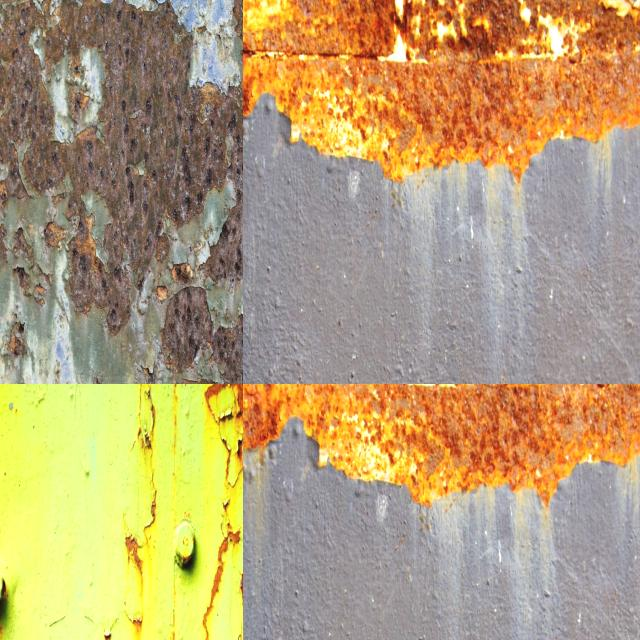Pitting Corrosion: (0, 0, 243, 334), (243, 0, 640, 180), (243, 384, 640, 504), (161, 109, 243, 384)
Uniform Corrosion: (202, 522, 240, 640), (125, 534, 142, 577), (240, 573, 243, 606), (133, 616, 141, 625)
